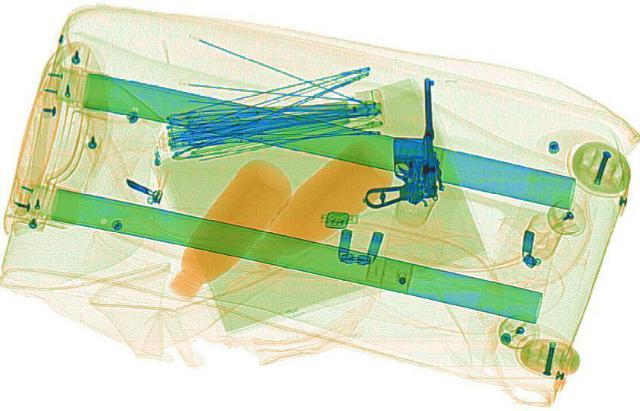Gun: (356, 75, 444, 208)
